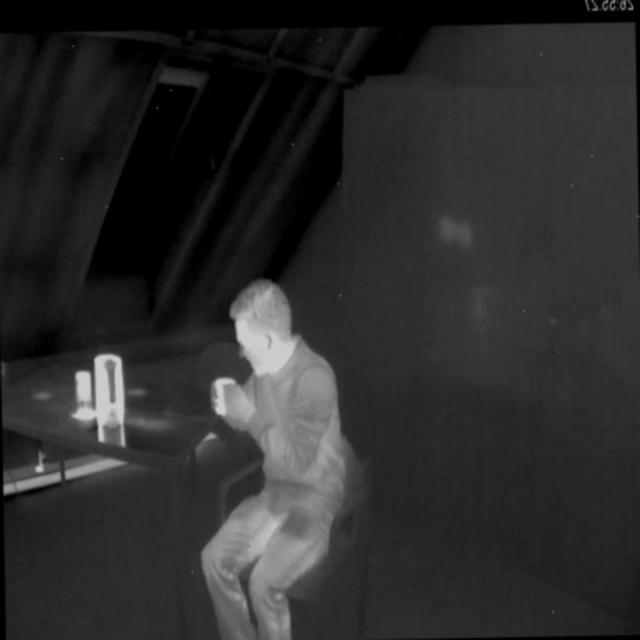person: (193, 271, 362, 640)
